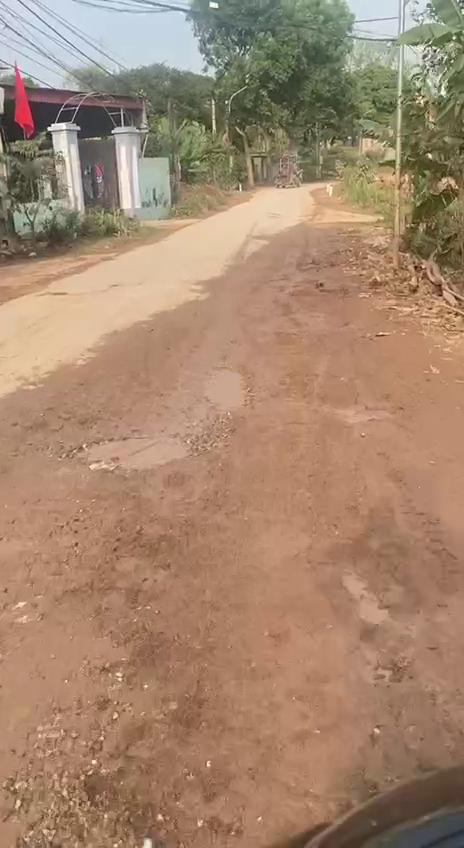pothole: (72, 428, 198, 472), (198, 361, 252, 414)
